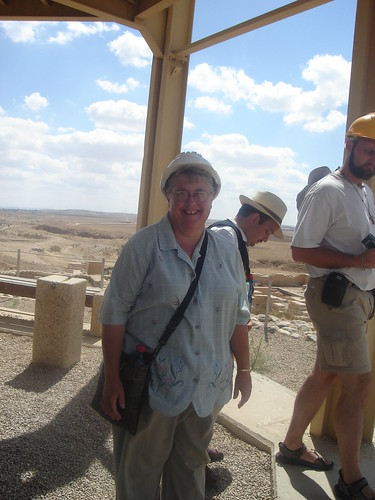person hardhat: (101, 150, 251, 500), (301, 107, 375, 498)
